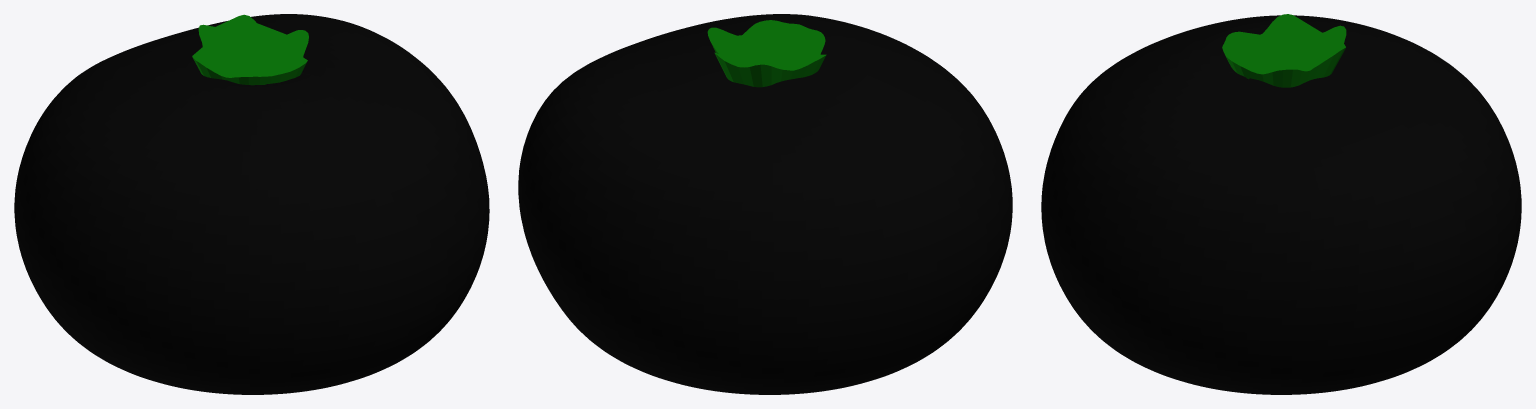
File: tomato.fbx
3 views of the same model, side by side, from view 1: azimuth 30°, elevation 25°; view 2: azimuth 150°, elevation 25°; view 3: azimuth 270°, elevation 25° (orthographic).
Visible parts, largest first — view 1: Sphere, Cylinder; view 2: Sphere, Cylinder; view 3: Sphere, Cylinder.
Part boxes in pixels (x1,y1,x2,y2): Sphere: (14,14,489,394); Cylinder: (192,14,308,85); Sphere: (518,14,1012,394); Cylinder: (707,20,826,87); Sphere: (1041,15,1521,394); Cylinder: (1222,14,1346,87).
Bounding box in the file's own units: 200 × 136 × 197.
